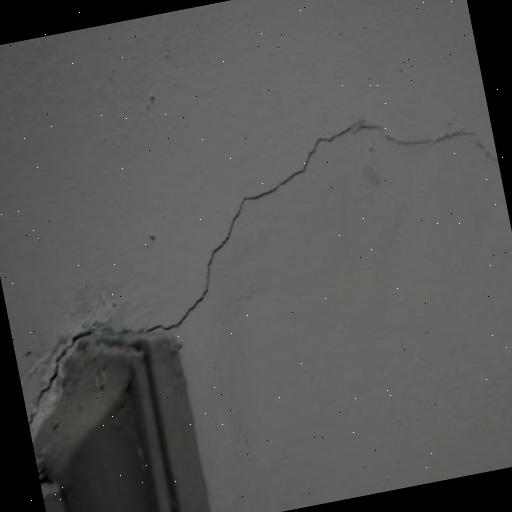spalling: (133, 110, 474, 339)
